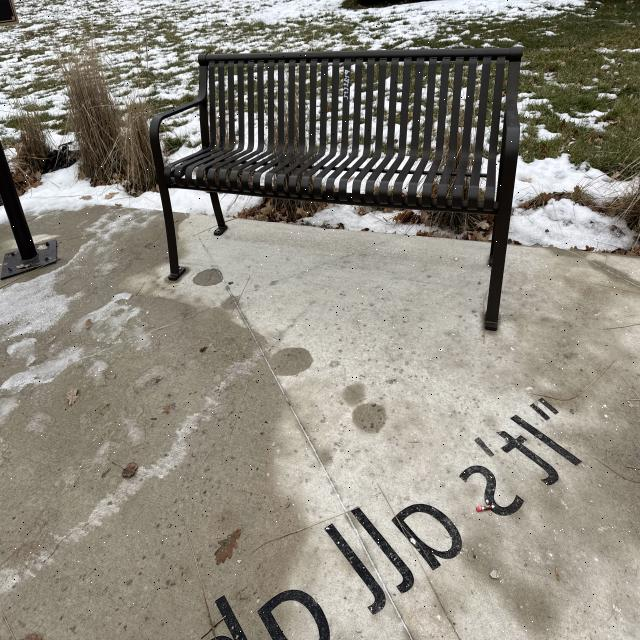Bench: (158, 42, 538, 328)
